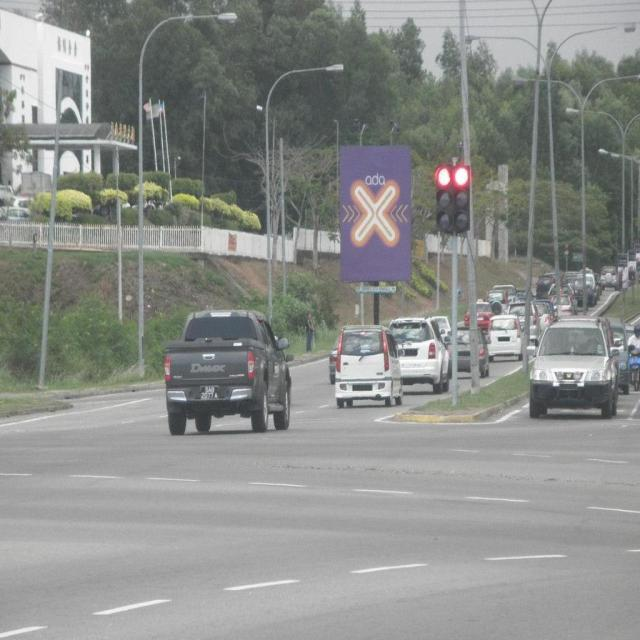traffic light: (435, 163, 451, 231), (453, 167, 470, 231)
